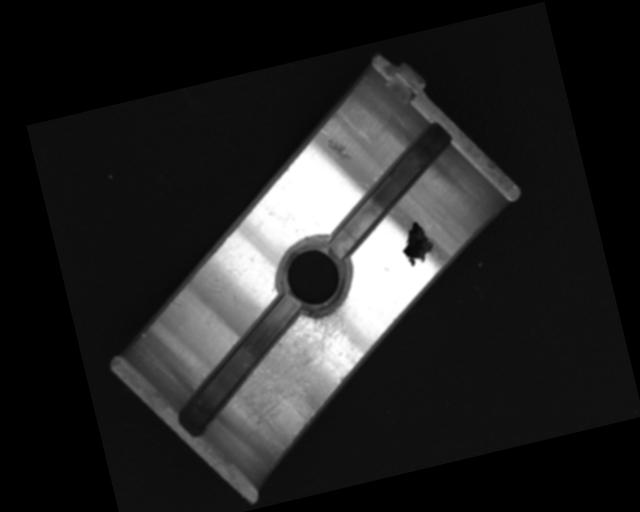blot: (394, 216, 437, 268)
bruise: (325, 134, 354, 166)
gap: (156, 290, 323, 437), (310, 118, 471, 257)
hole: (267, 230, 360, 324)
scratch: (215, 300, 374, 462)
